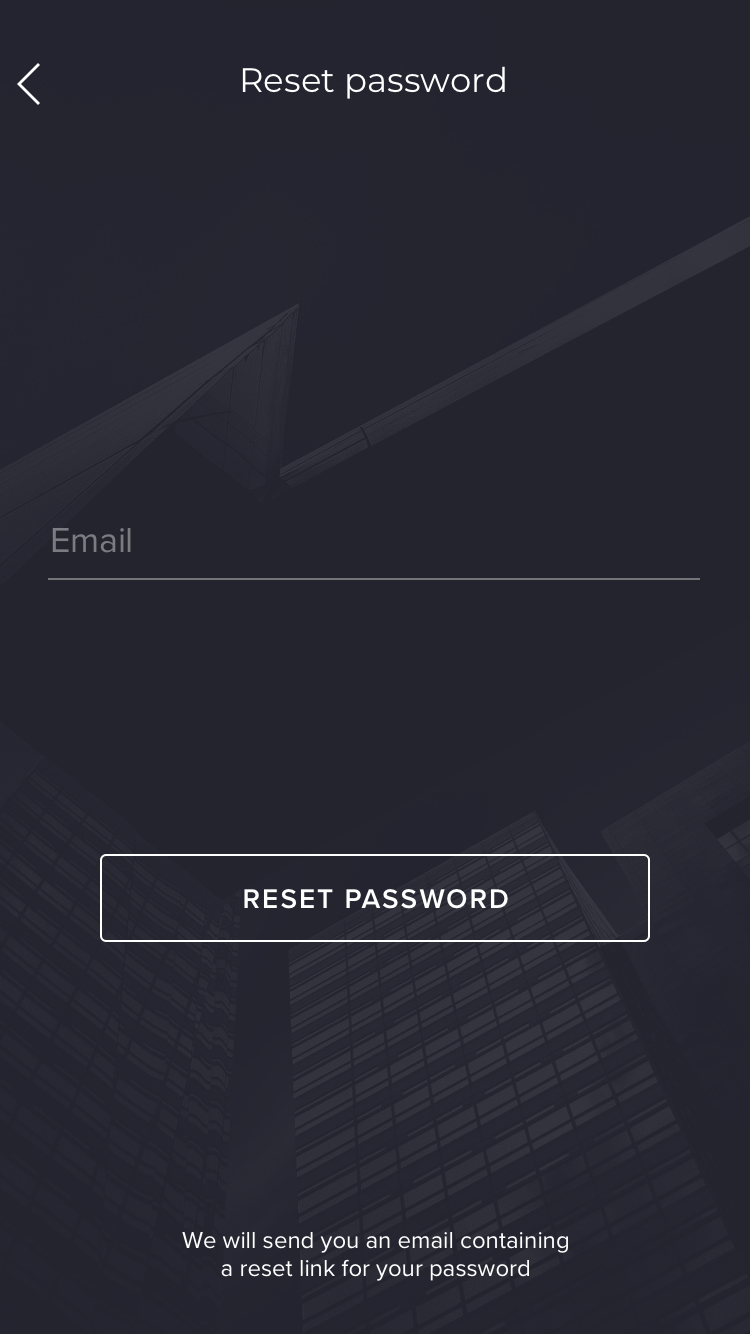BackgroundImage: (1, 1, 750, 1334)
EditText: (48, 527, 701, 581)
Icon: (17, 63, 42, 107)
Text: (182, 1231, 569, 1282), (242, 66, 507, 101), (53, 528, 132, 554)
TextButton: (100, 854, 651, 943)
